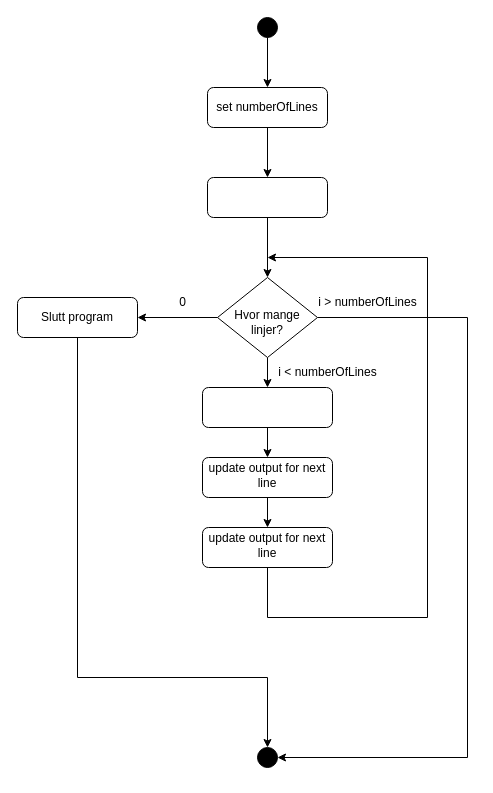
Image size: 493x793. Some labels were removed from this diagram. Here are the shapes that lost their labels. From the top down, the box of each, then its label:
(206, 176, 328, 218): define symbol
(202, 386, 332, 428): print line with symbol
